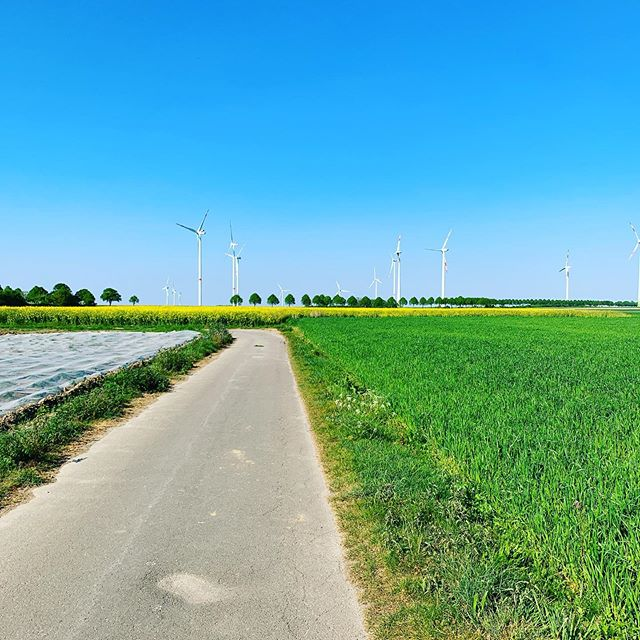grass: (310, 313, 640, 640)
road: (5, 329, 336, 640)
sky: (10, 1, 640, 275)
wind turbine: (176, 211, 220, 304), (219, 228, 250, 302), (428, 229, 456, 307), (386, 229, 409, 304), (556, 243, 576, 306)
